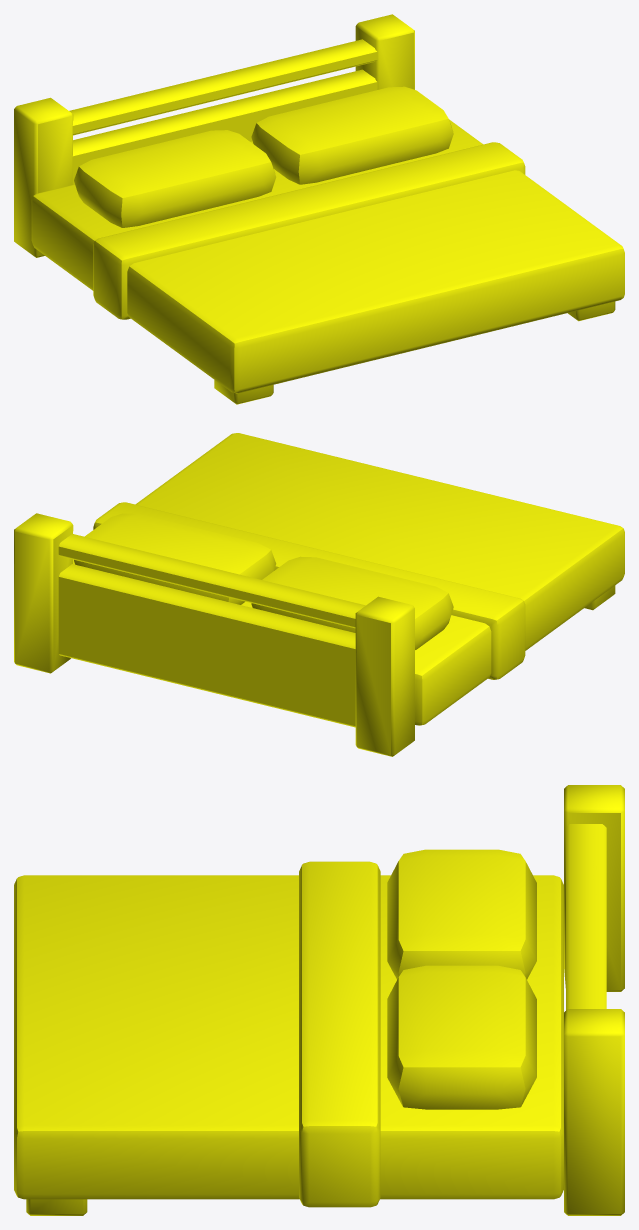
The model's file is kaykit-bed-double-a.glb.
3 views of the same model, one above another, from view 1: azimuth 30°, elevation 25°; view 2: azimuth 150°, elevation 25°; view 3: azimuth 270°, elevation 25° (orthographic). The views are drawn at different scales.
Parts seen in each view (by area): view 1: bed_double_A; view 2: bed_double_A; view 3: bed_double_A.
Part boxes in pixels (x1,y1,x2,y2): bed_double_A: (14, 14, 624, 404); bed_double_A: (14, 433, 624, 756); bed_double_A: (14, 785, 624, 1215).
Size of the model in its own units: 3.1 by 0.9999 by 3.
